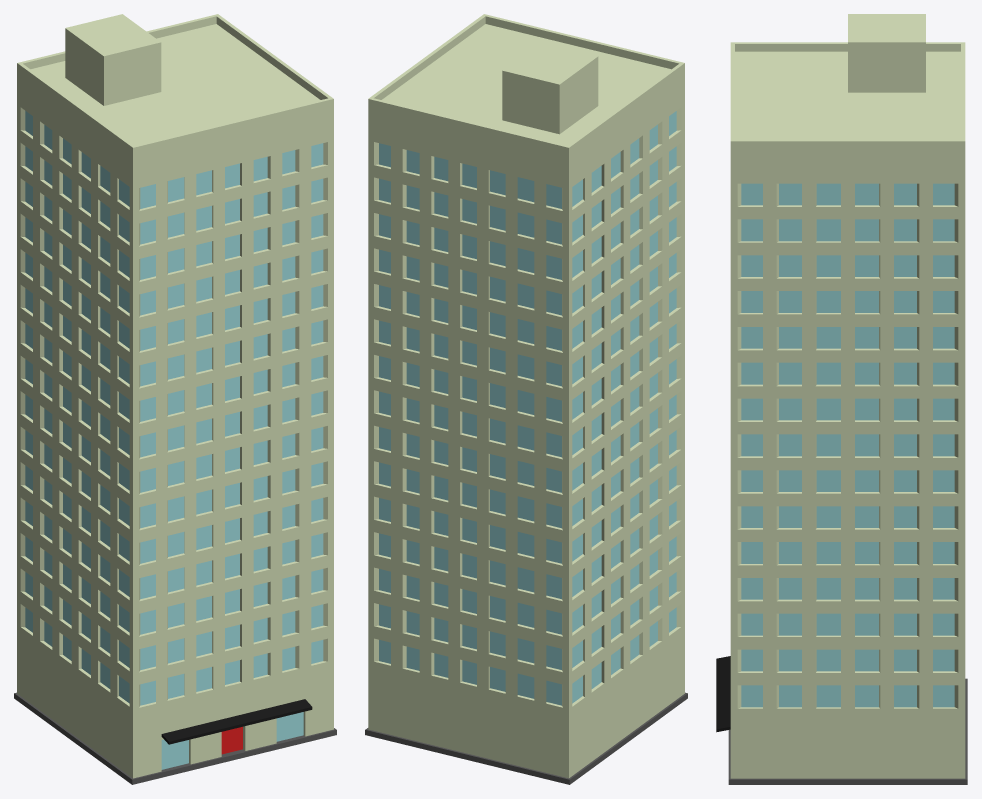
Rendered from House_01_Fall.fbx.
The picture shows the model from 3 angles, left to right: view 1: azimuth 30°, elevation 25°; view 2: azimuth 150°, elevation 25°; view 3: azimuth 270°, elevation 25°; orthographic projection.
Parts seen in each view (by area): view 1: House.FrontPivot; view 2: House.FrontPivot; view 3: House.FrontPivot.
Part boxes in pixels (box(x1,y1,x2,y2)): House.FrontPivot: box(14, 14, 336, 784); House.FrontPivot: box(365, 14, 687, 784); House.FrontPivot: box(716, 14, 967, 784).
Size of the model in its own units: 4.07 by 4.28 by 12.9.
